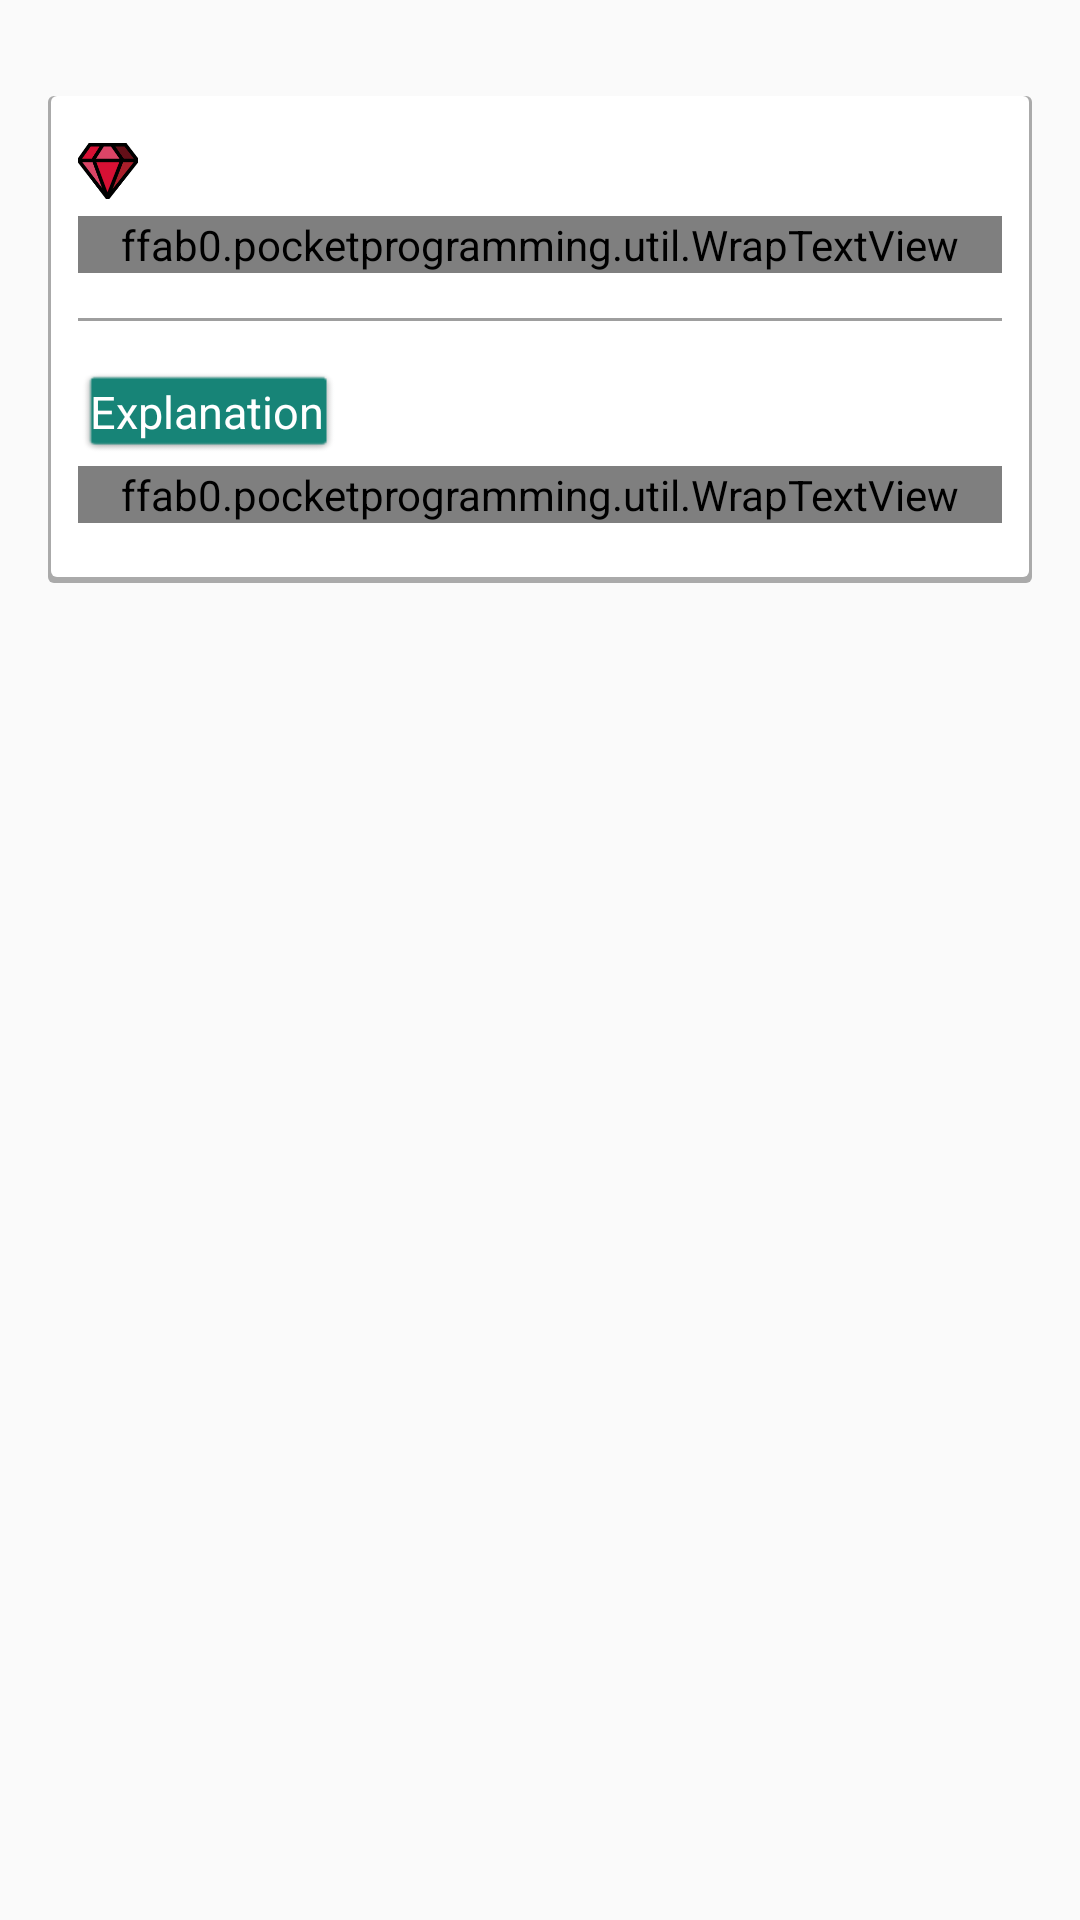

Point at icon controls on the screen. Image size 1080w x 1920h, points as (x,y).
ruby: (108,171)
